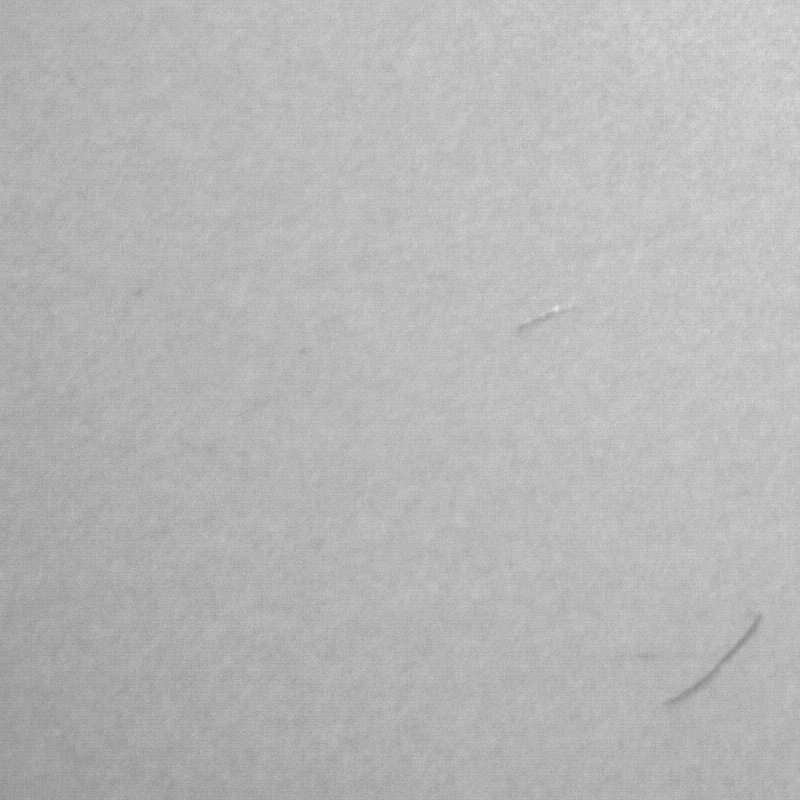defect: (657, 612, 762, 707), (509, 299, 579, 336)
